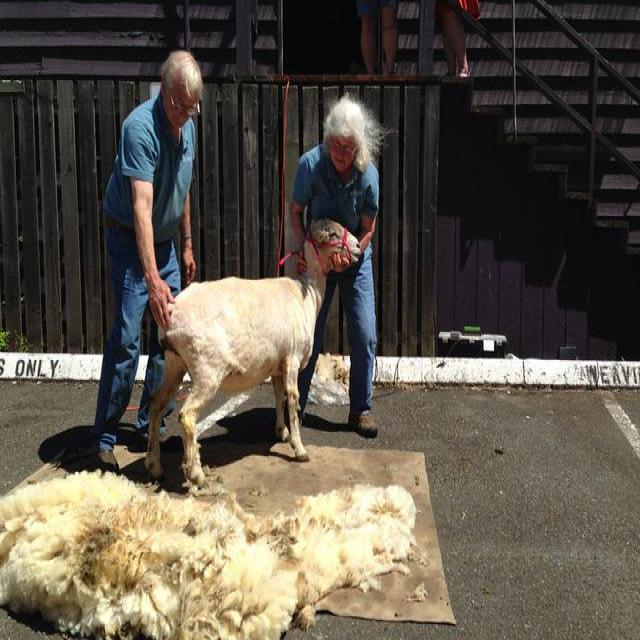Sheep: (146, 222, 364, 489)
